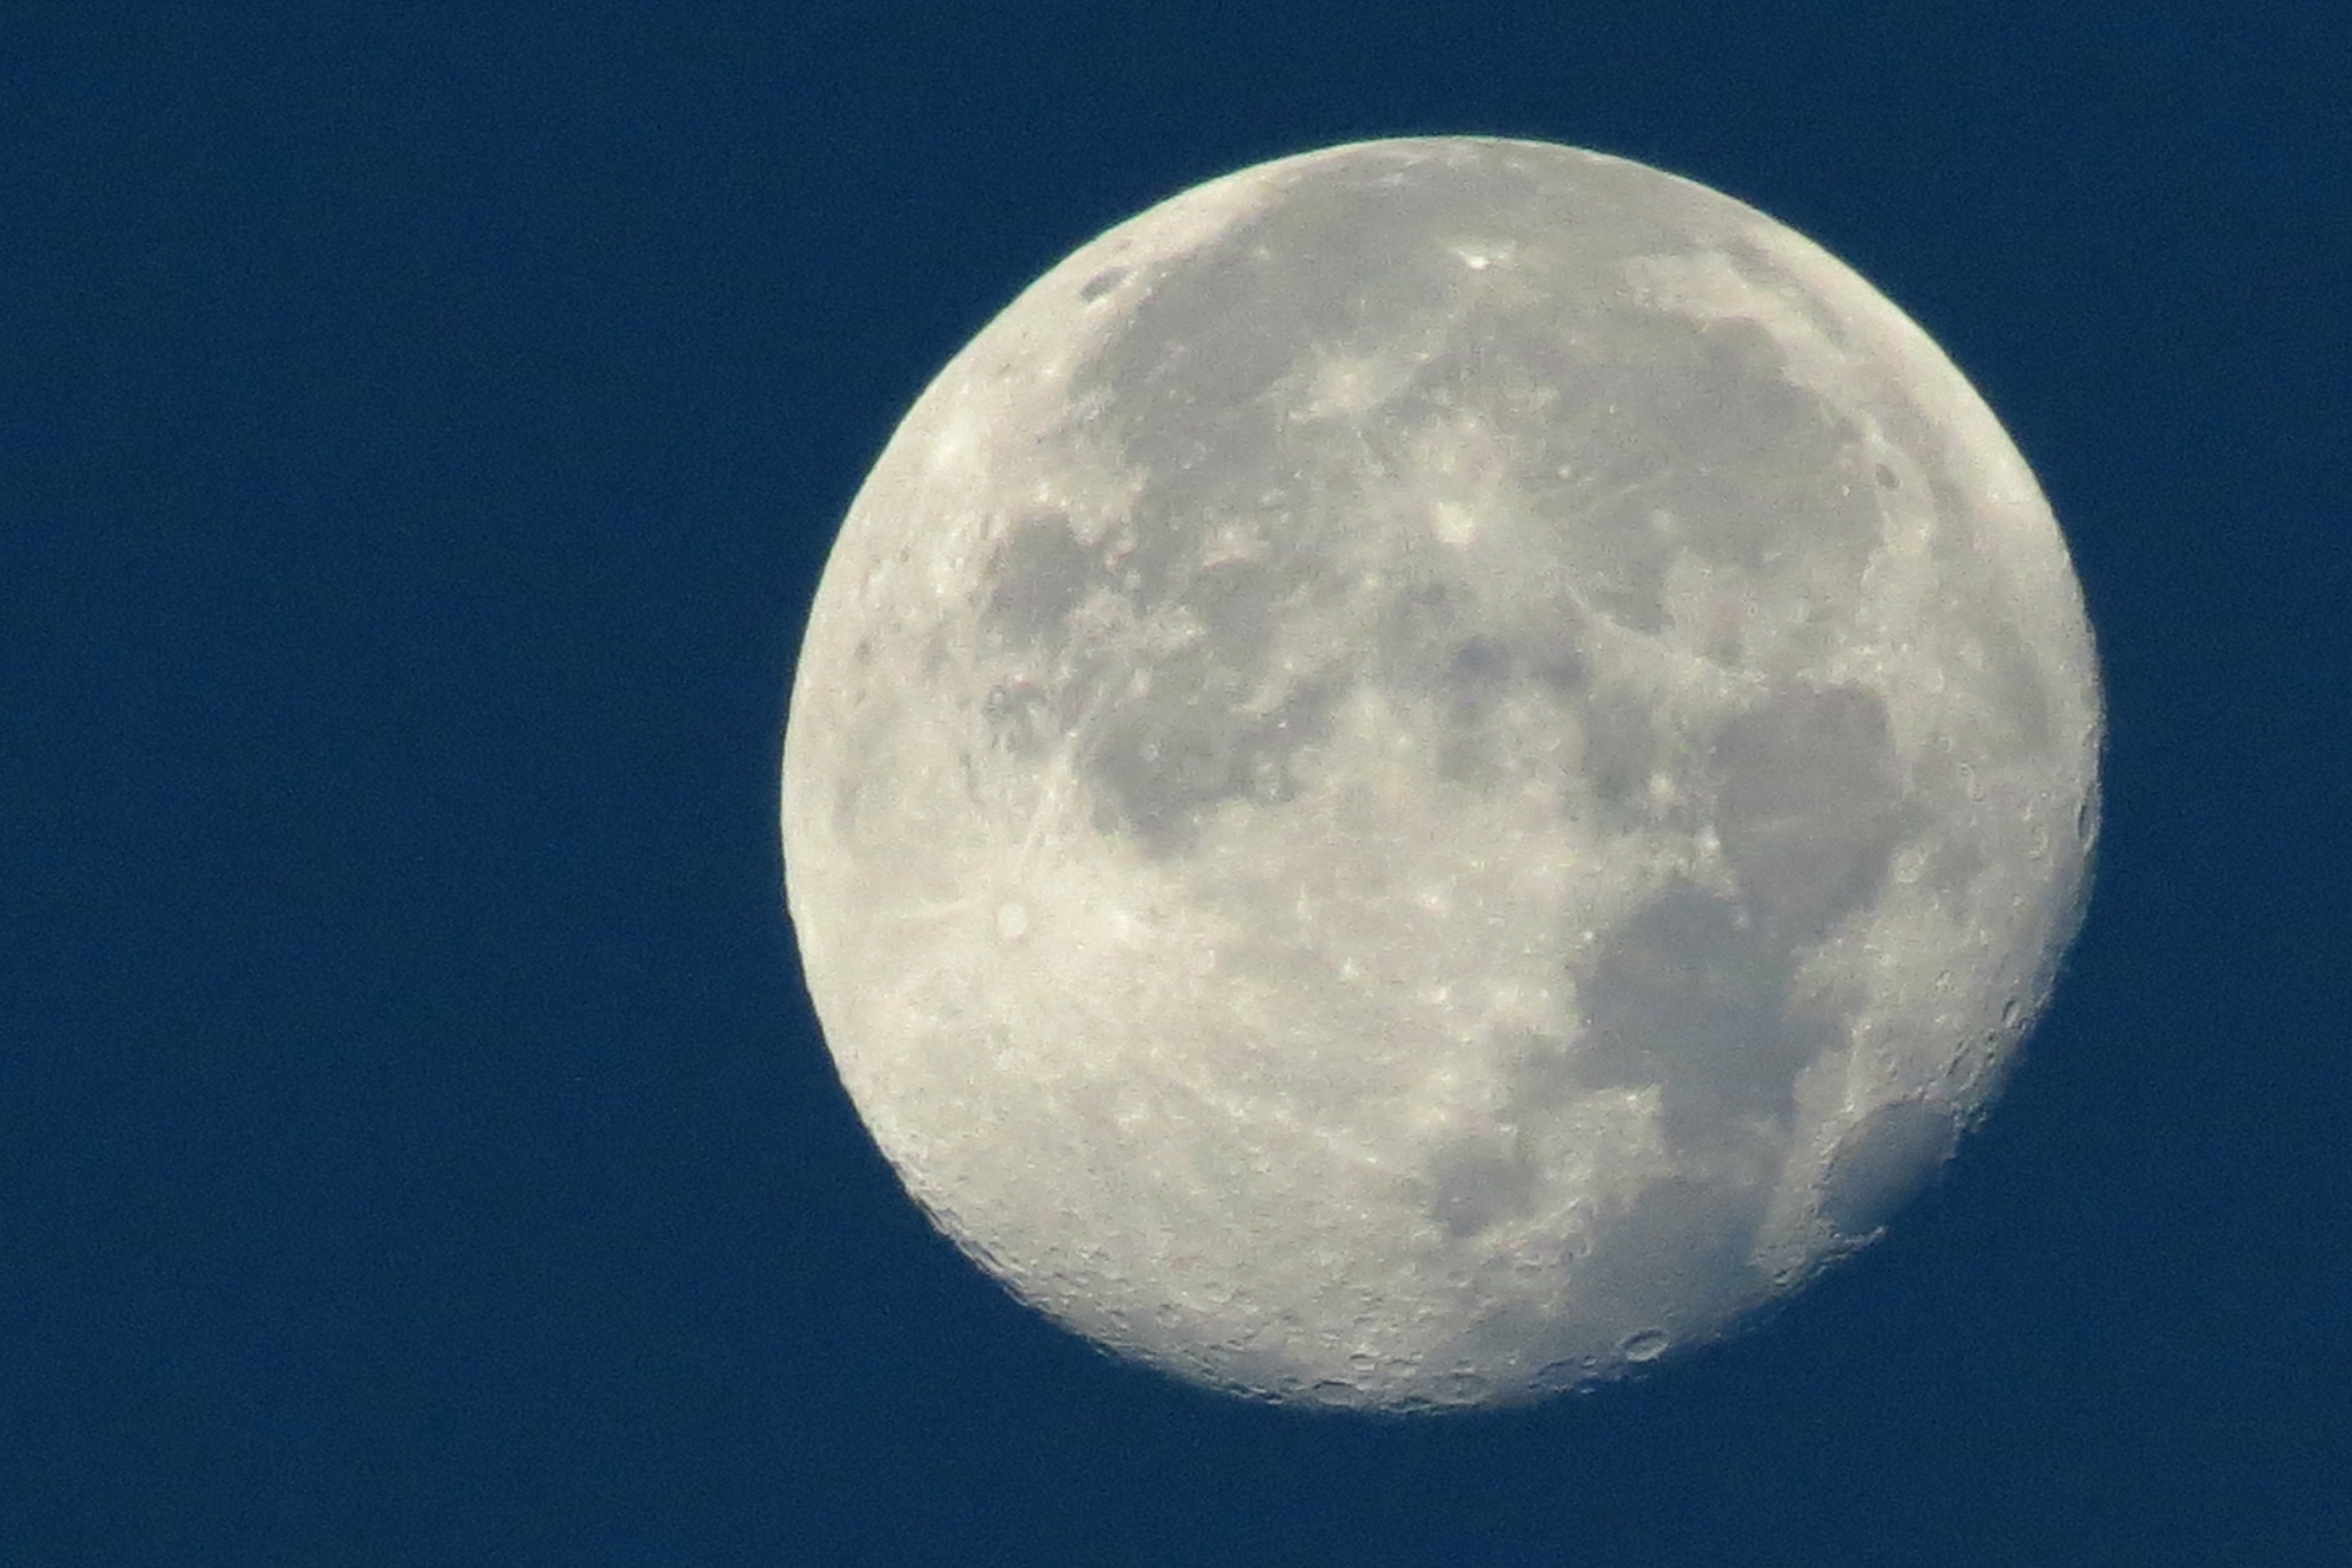crater: (917, 787, 1171, 1066), (1781, 1074, 1984, 1265), (1396, 455, 1531, 595), (1160, 1244, 1249, 1319), (1435, 238, 1549, 296), (1405, 1356, 1522, 1405), (1599, 1300, 1685, 1363), (1073, 256, 1137, 320), (1860, 438, 1916, 500), (1309, 1363, 1372, 1409), (945, 1164, 990, 1204), (1099, 227, 1151, 256), (1073, 1153, 1108, 1185)
